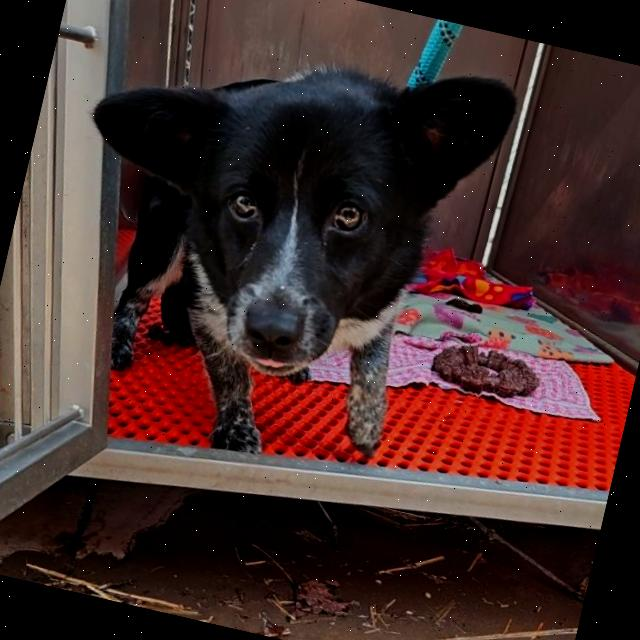corgi_dog: (38, 0, 526, 427)
